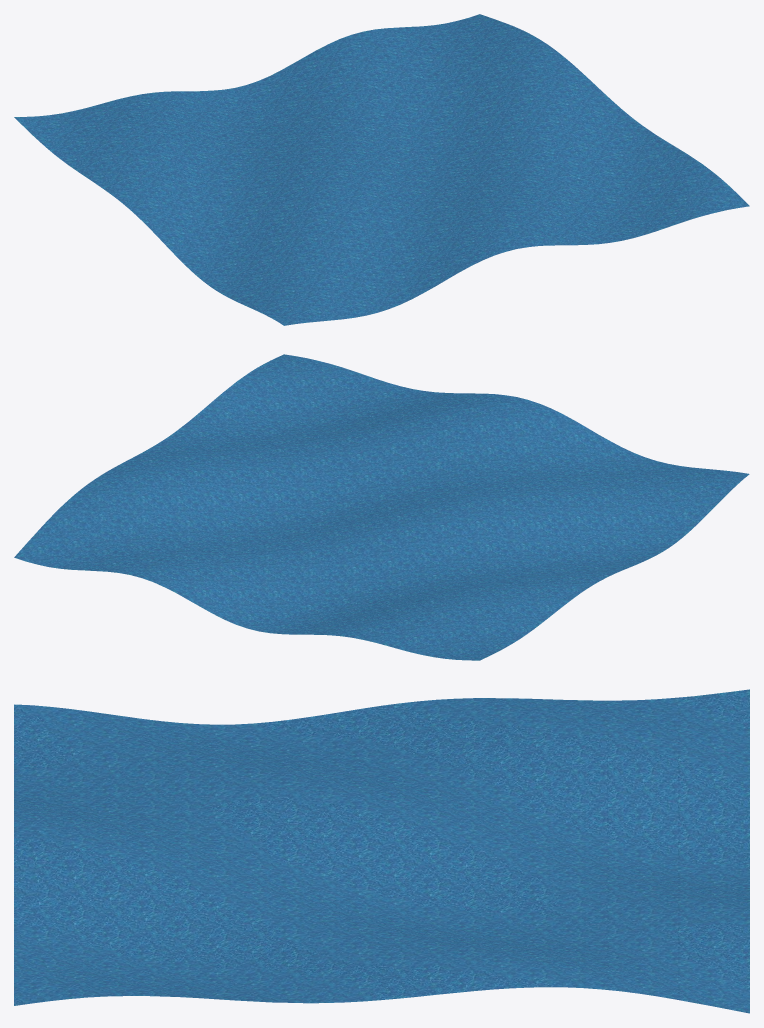
File: podloze.obj
3 views of the same model, one above another, from view 1: azimuth 30°, elevation 25°; view 2: azimuth 150°, elevation 25°; view 3: azimuth 270°, elevation 25° (orthographic). The views are drawn at different scales.
Parts seen in each view (by area): view 1: podloze; view 2: podloze; view 3: podloze.
Part boxes in pixels (x1,y1,x2,y2): podloze: [14, 14, 749, 325]; podloze: [14, 354, 749, 660]; podloze: [14, 689, 749, 1013].
Bounding box in the file's own units: 18031 × 1347 × 18109.
Materials: 1 (1 with a texture image).
